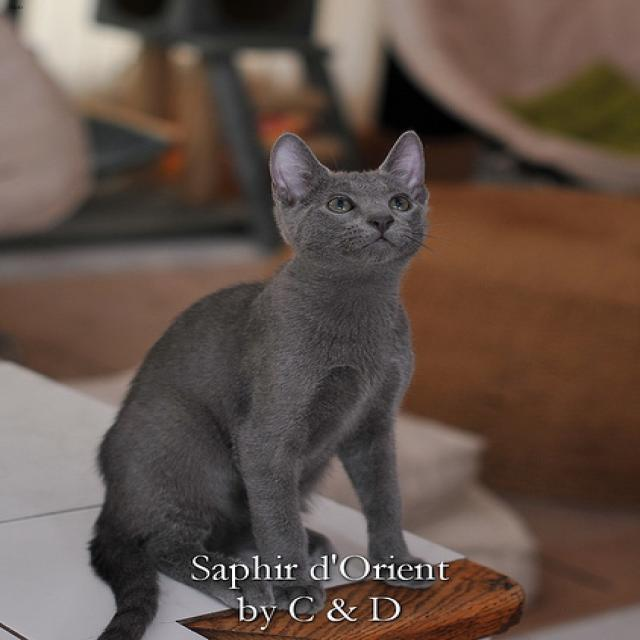Russian_Blue: (266, 128, 438, 267)
